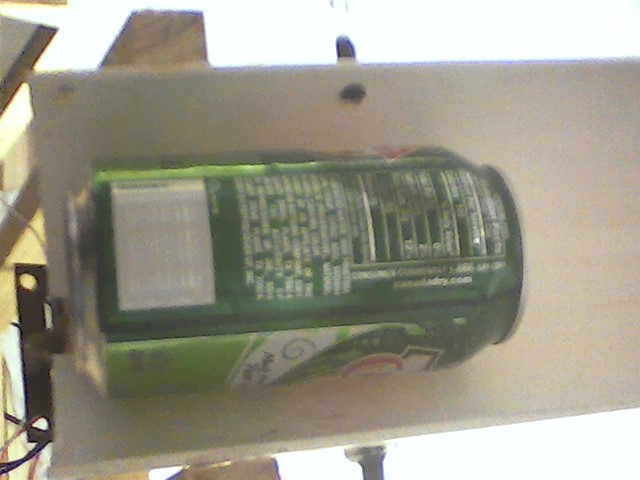lata: (61, 137, 538, 407)
